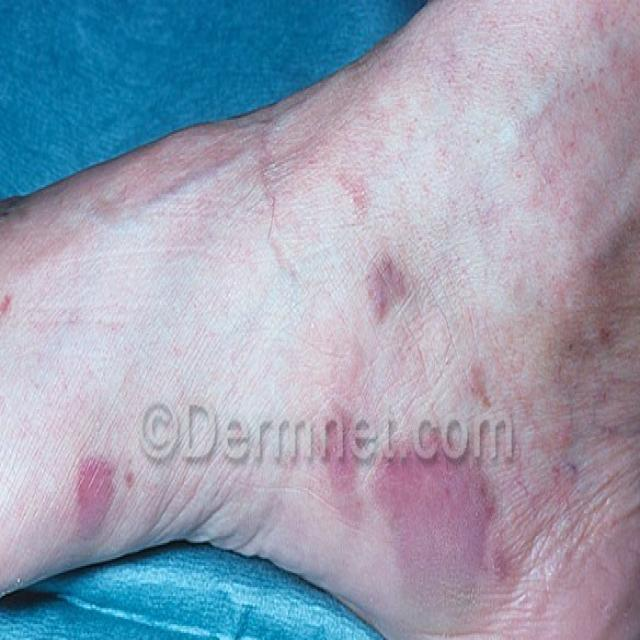Vascular Tumors: (379, 419, 527, 630), (60, 447, 142, 549), (323, 393, 368, 534), (362, 251, 418, 346)
